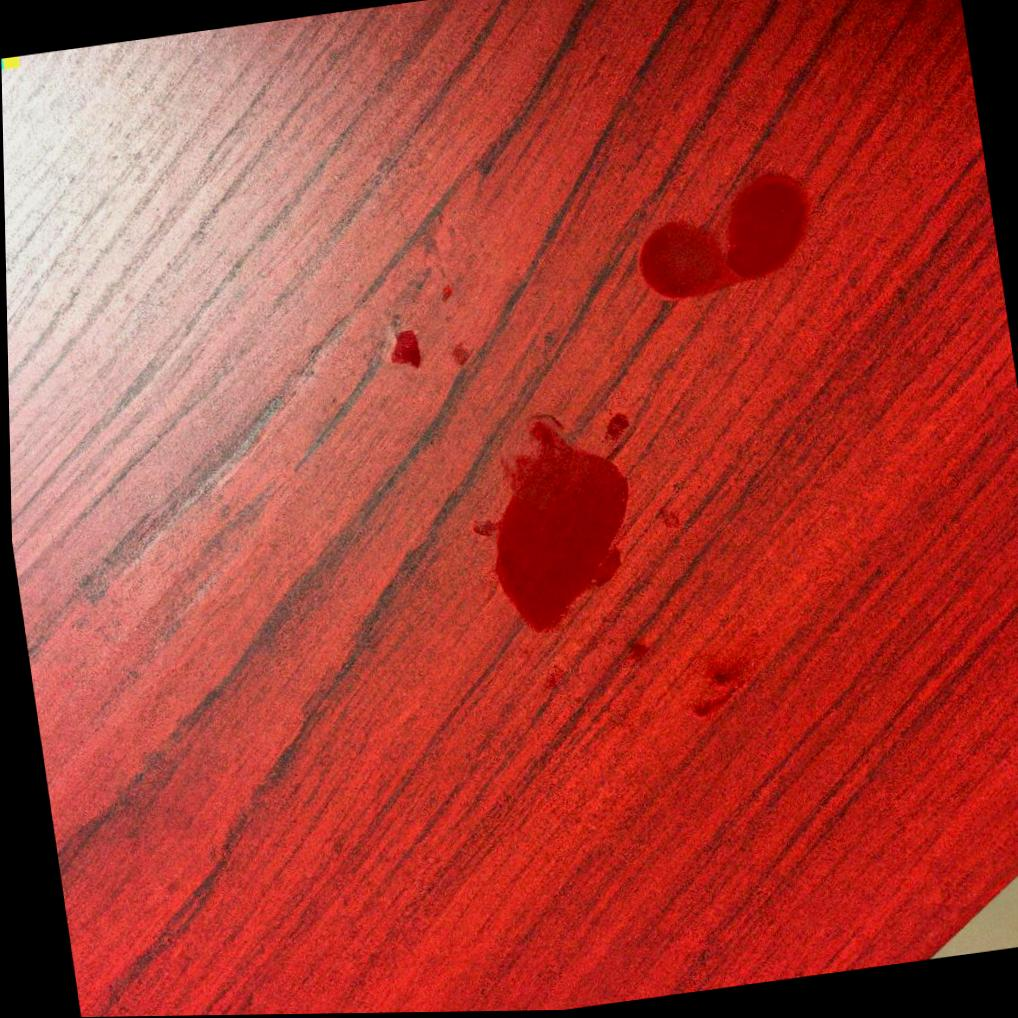Fire: (470, 423, 628, 635), (690, 681, 743, 720), (389, 331, 421, 370), (602, 416, 628, 444), (624, 645, 647, 665), (451, 345, 468, 370), (709, 676, 735, 689)
